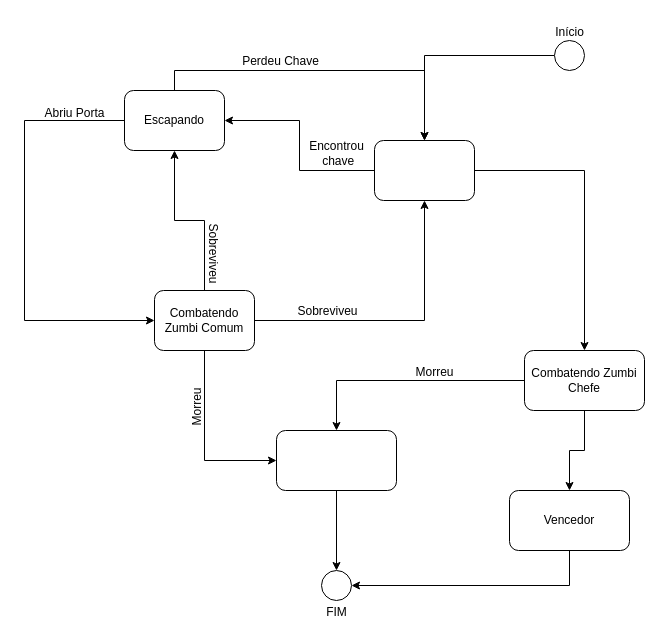
This 662x644 diagram has some shape labels left out. The centre of each missing label's shape, as x and y in pixels:
"Explorando" belongs at point (424, 170).
"Perdedor" belongs at point (336, 460).
